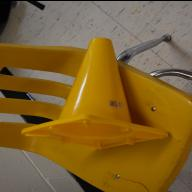cone: (20, 36, 168, 148)
